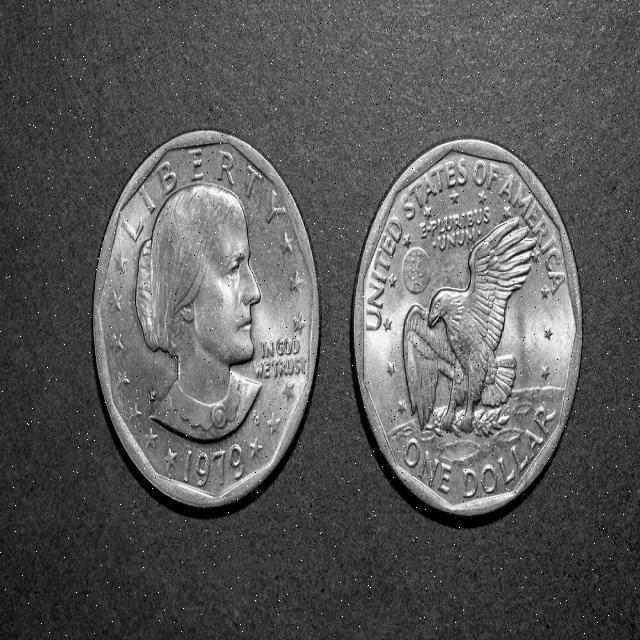Circle: (352, 137, 582, 522), (91, 130, 322, 512)
